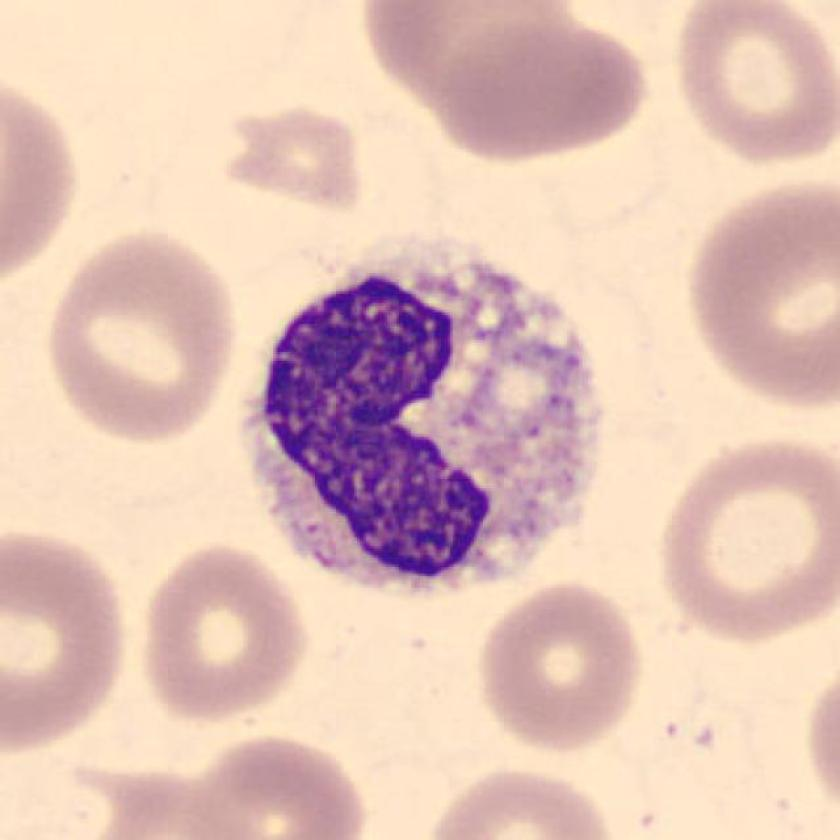neutrophil: (244, 234, 609, 596)
